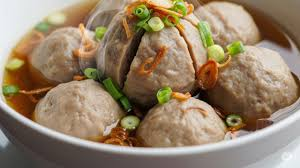Bakso besar: (102, 1, 215, 106)
Bakso sedang: (204, 44, 296, 128), (35, 77, 119, 141), (136, 97, 229, 149), (30, 23, 100, 84)
